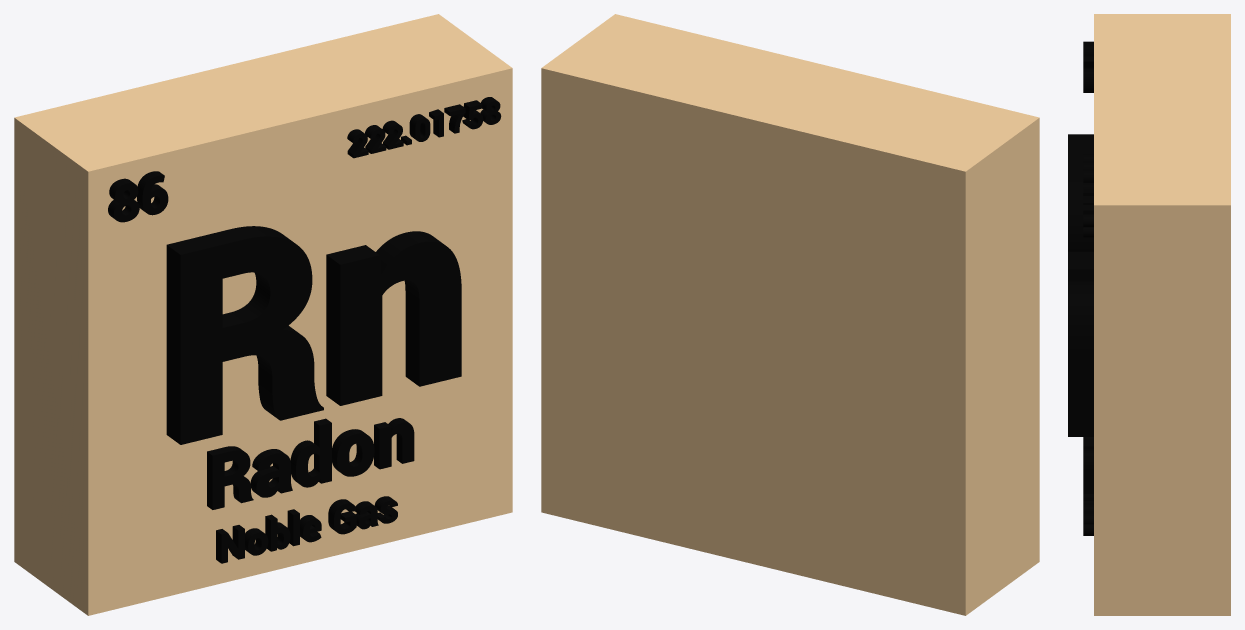
3 views of the same model, side by side, from view 1: azimuth 30°, elevation 25°; view 2: azimuth 150°, elevation 25°; view 3: azimuth 270°, elevation 25° (orthographic). The views are drawn at different scales.
Parts seen in each view (by area): view 1: Cube, Text, Text.001, Text.002, Text.004, Text.003; view 2: Cube; view 3: Cube, Text, Text.004, Text.001, Text.003, Text.002.
Boxes of the visible parts, x1,y1,x2,y2 form: Cube: [14, 14, 512, 615]; Text: [166, 226, 461, 444]; Text.001: [207, 418, 414, 509]; Text.002: [216, 496, 397, 563]; Text.004: [347, 97, 501, 158]; Text.003: [108, 171, 168, 222]; Cube: [541, 14, 1039, 615]; Cube: [1094, 14, 1230, 615]; Text: [1068, 134, 1093, 436]; Text.004: [1083, 154, 1093, 237]; Text.001: [1083, 437, 1093, 494]; Text.003: [1083, 41, 1093, 92]; Text.002: [1083, 494, 1093, 535].
Bounding box in the file's own units: 178 × 178 × 63.95.
